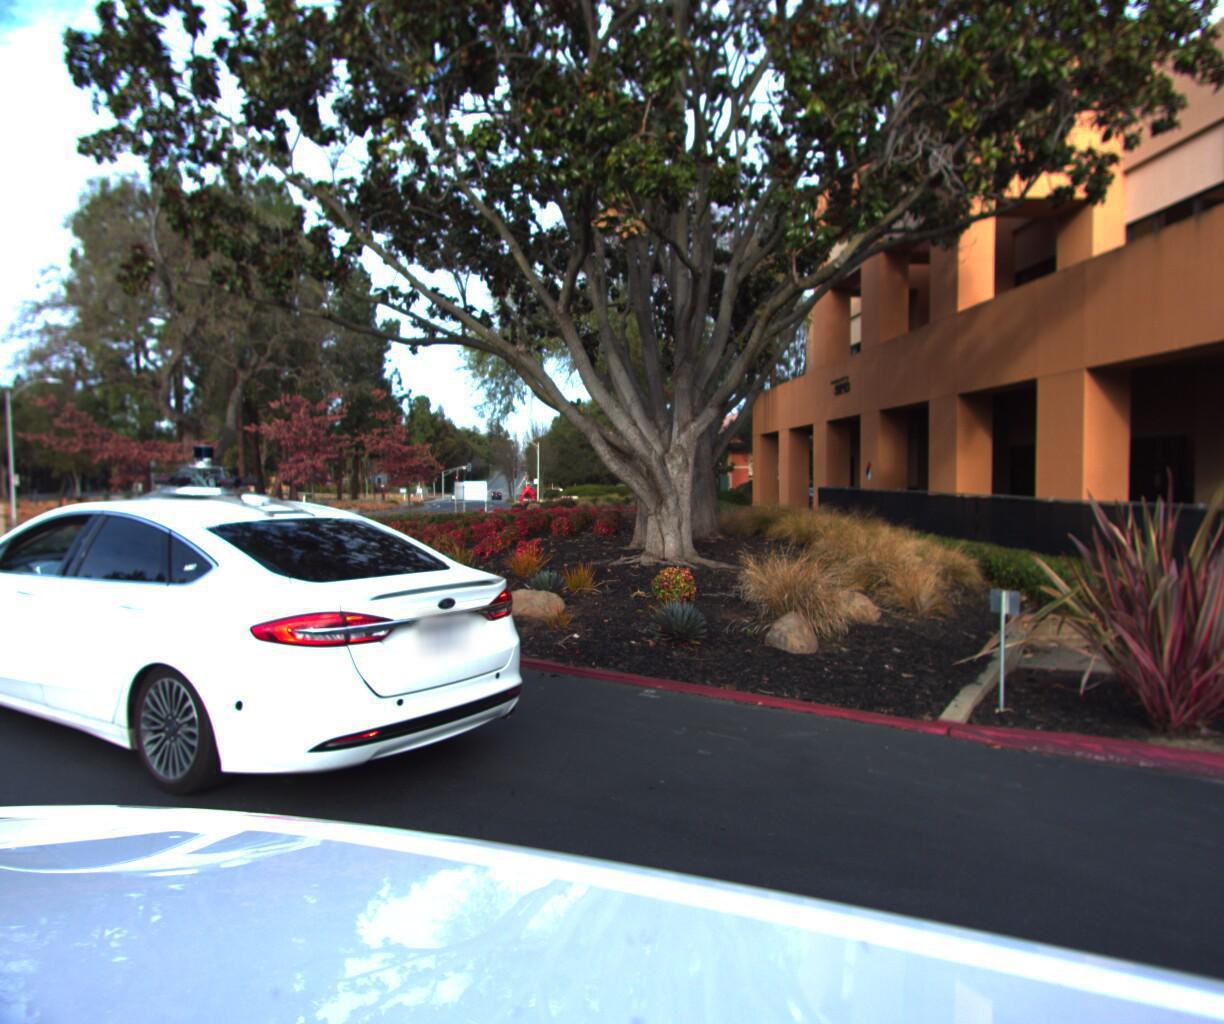car: (0, 423, 571, 854)
